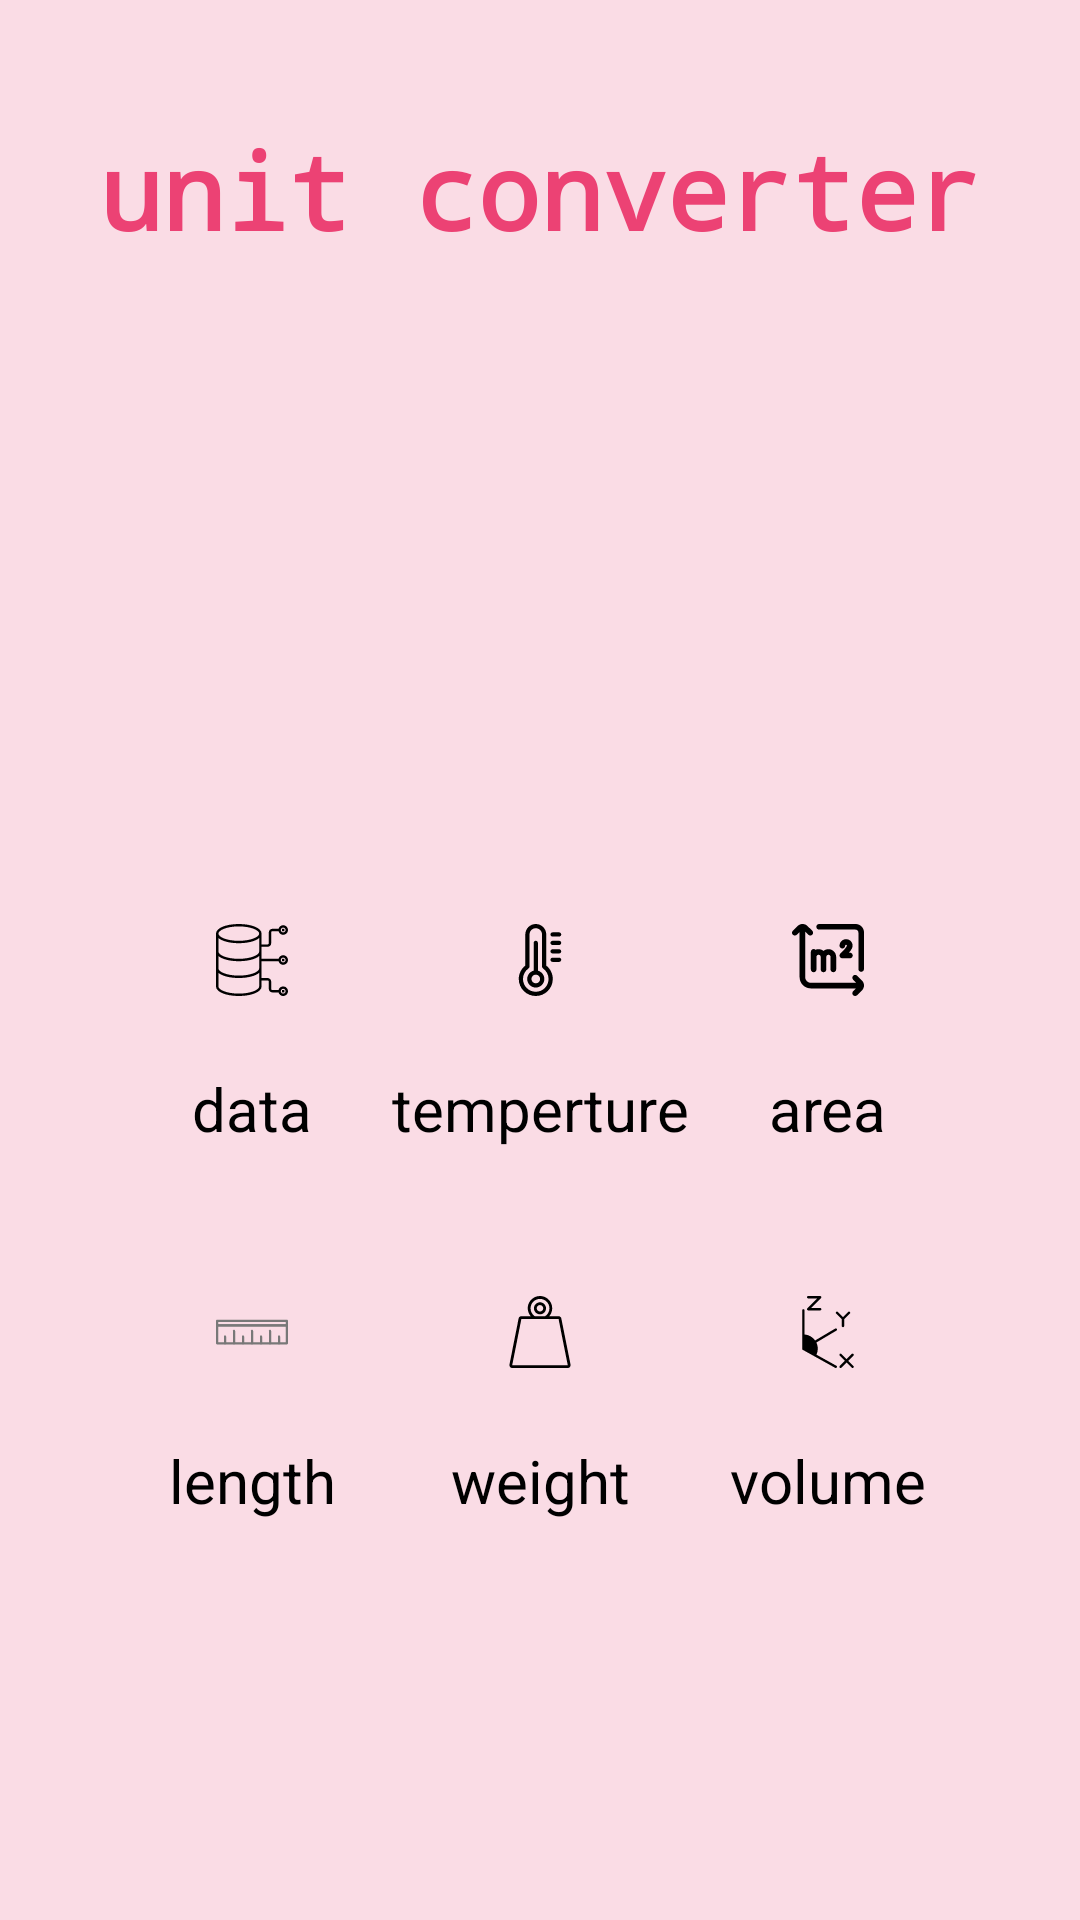

Where icons sit on this 1080*1920 app screen, as (x1, y1, x2, y2):
axis: (802, 1296, 854, 1368)
ruler: (216, 1319, 288, 1345)
thermometer: (518, 924, 562, 996)
